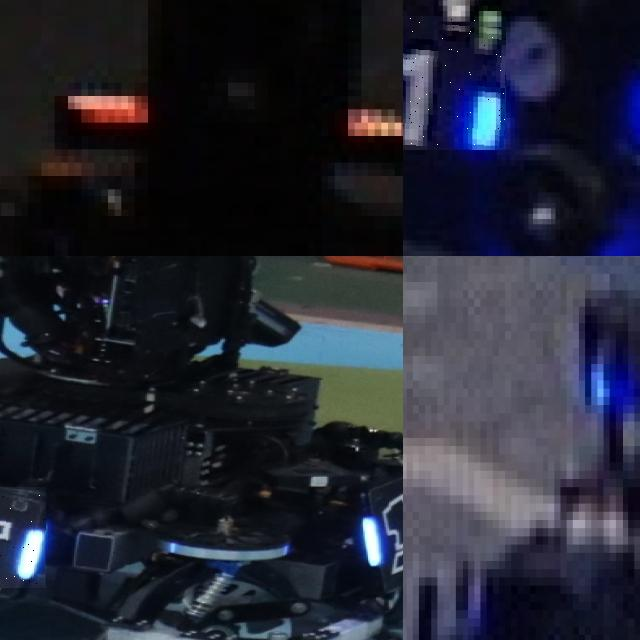B1: (403, 16, 506, 149)
Bs: (0, 487, 46, 588), (358, 479, 403, 577)
